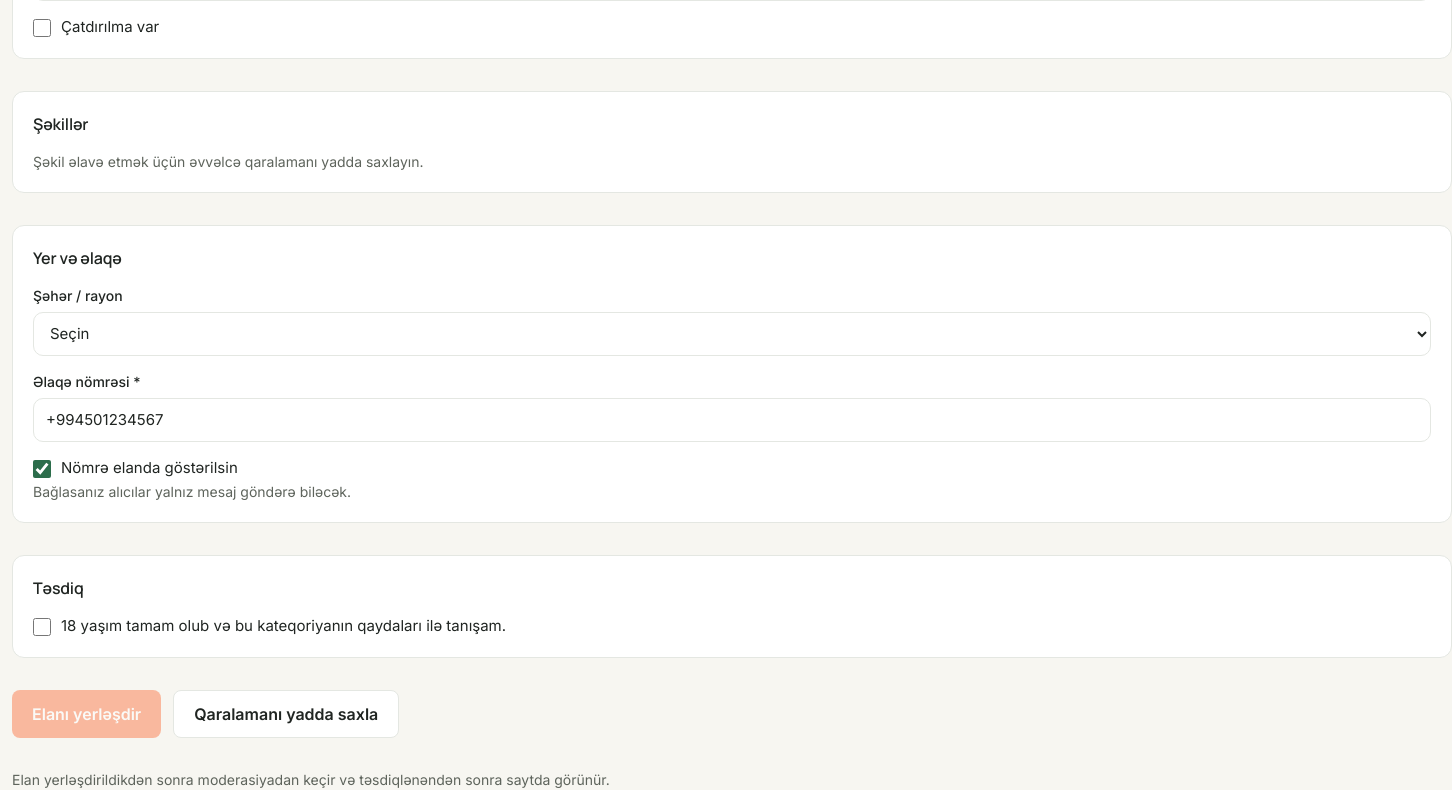
Scenario: ListingForm › blocks publishing a restricted category until the age box is ticked
(page scrolled)
Expected: the button "Elanı yerləşdir" is disabled, top-left (12, 690), bottom-right (161, 738)
Step 1. Click the checkbox labelled "18 yaşım tamam olub" → (42, 627), box top-left (33, 618), bottom-right (51, 636)
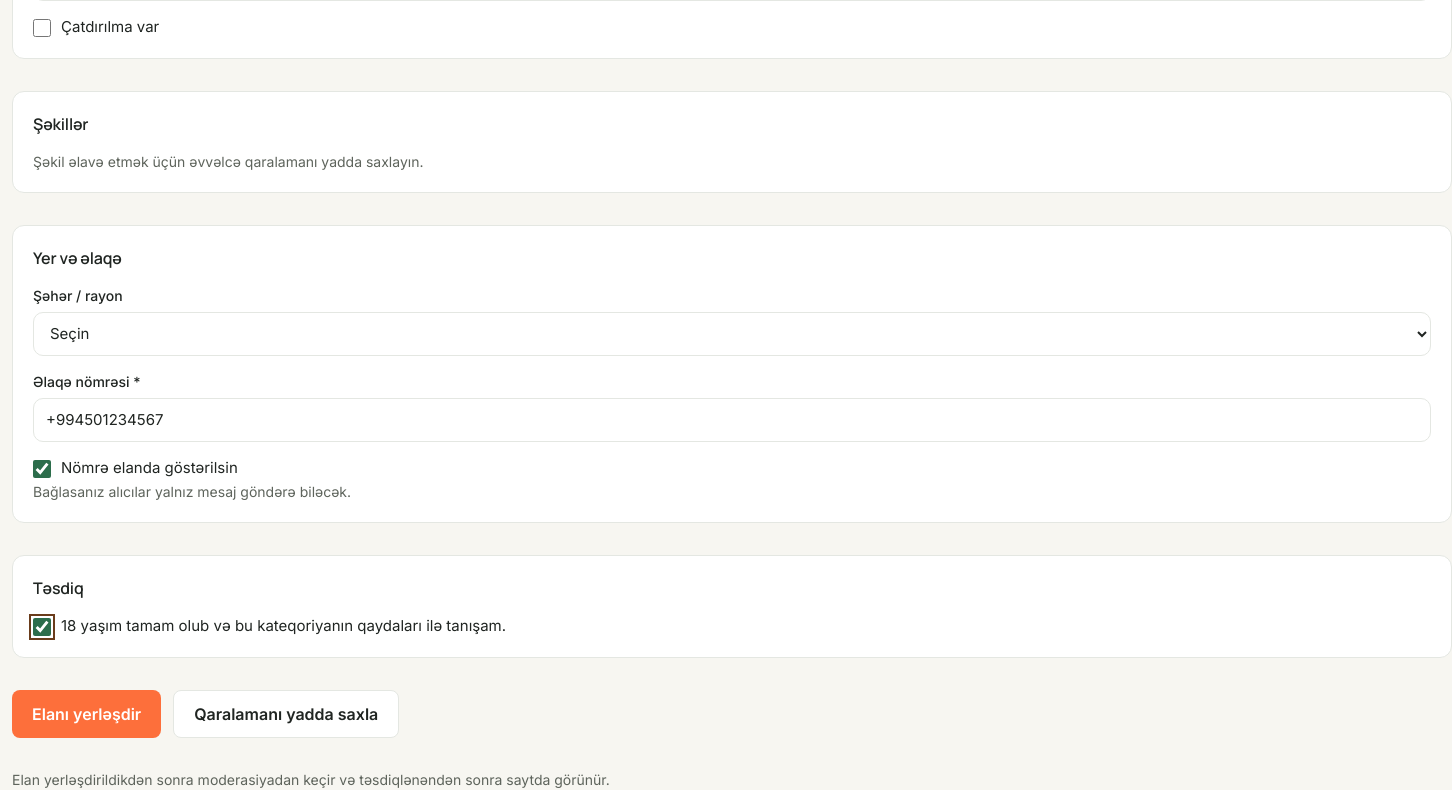
Now the button "Elanı yerləşdir" is enabled, box top-left (12, 690), bottom-right (161, 738)
